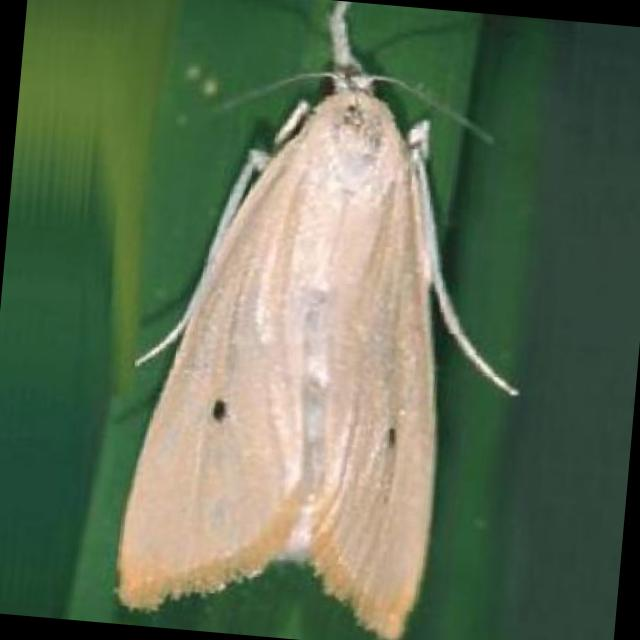stem-borer: (113, 0, 556, 640)
